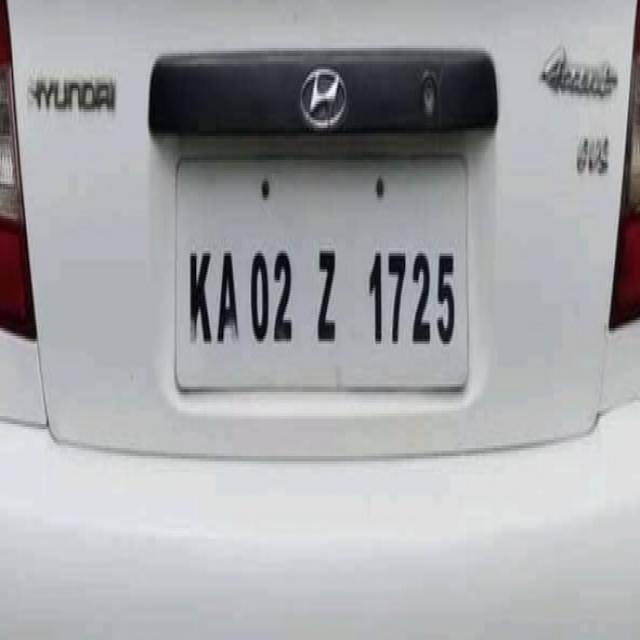0: (248, 242, 272, 353)
1: (362, 245, 387, 352)
5: (434, 240, 459, 352)
7: (385, 245, 410, 354)
A: (218, 242, 240, 358)
K: (186, 250, 214, 354)
Z: (314, 224, 341, 356)
